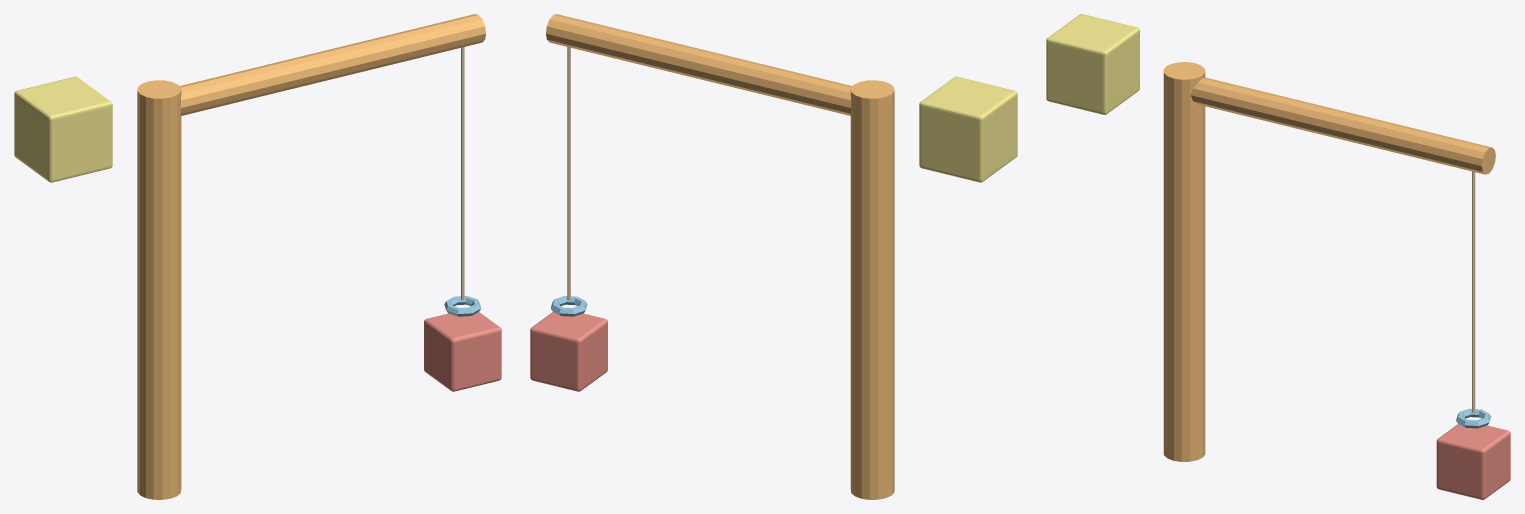
Rendered from kran_lod2.fbx.
3 views of the same model, side by side, from view 1: azimuth 30°, elevation 25°; view 2: azimuth 150°, elevation 25°; view 3: azimuth 330°, elevation 25° (orthographic). The views are drawn at different scales.
Visible parts, largest first — view 1: Kran_Base_LOD2, Kran_Arm_LOD2, Kran_Counterweight_LOD2, Kran_Container_LOD2, Kran_Rope_LOD2, Kran_Hook_LOD2; view 2: Kran_Base_LOD2, Kran_Arm_LOD2, Kran_Counterweight_LOD2, Kran_Container_LOD2, Kran_Rope_LOD2, Kran_Hook_LOD2; view 3: Kran_Base_LOD2, Kran_Arm_LOD2, Kran_Counterweight_LOD2, Kran_Container_LOD2, Kran_Rope_LOD2, Kran_Hook_LOD2.
Boxes of the visible parts, x1=… form: Kran_Base_LOD2: x1=137, y1=80, x2=181, y2=499; Kran_Arm_LOD2: x1=179, y1=14, x2=485, y2=115; Kran_Counterweight_LOD2: x1=14, y1=76, x2=112, y2=182; Kran_Container_LOD2: x1=424, y1=312, x2=501, y2=391; Kran_Rope_LOD2: x1=461, y1=47, x2=464, y2=300; Kran_Hook_LOD2: x1=444, y1=296, x2=481, y2=316; Kran_Base_LOD2: x1=850, y1=80, x2=894, y2=499; Kran_Arm_LOD2: x1=546, y1=14, x2=852, y2=115; Kran_Counterweight_LOD2: x1=919, y1=76, x2=1017, y2=182; Kran_Container_LOD2: x1=530, y1=312, x2=607, y2=391; Kran_Rope_LOD2: x1=567, y1=47, x2=570, y2=300; Kran_Hook_LOD2: x1=550, y1=296, x2=587, y2=316; Kran_Base_LOD2: x1=1163, y1=62, x2=1205, y2=461; Kran_Arm_LOD2: x1=1191, y1=77, x2=1495, y2=174; Kran_Counterweight_LOD2: x1=1046, y1=14, x2=1139, y2=114; Kran_Container_LOD2: x1=1436, y1=424, x2=1510, y2=499; Kran_Rope_LOD2: x1=1472, y1=171, x2=1475, y2=412; Kran_Hook_LOD2: x1=1456, y1=408, x2=1491, y2=428.
Size of the model in its own units: 14.3 by 12.5 by 2.
